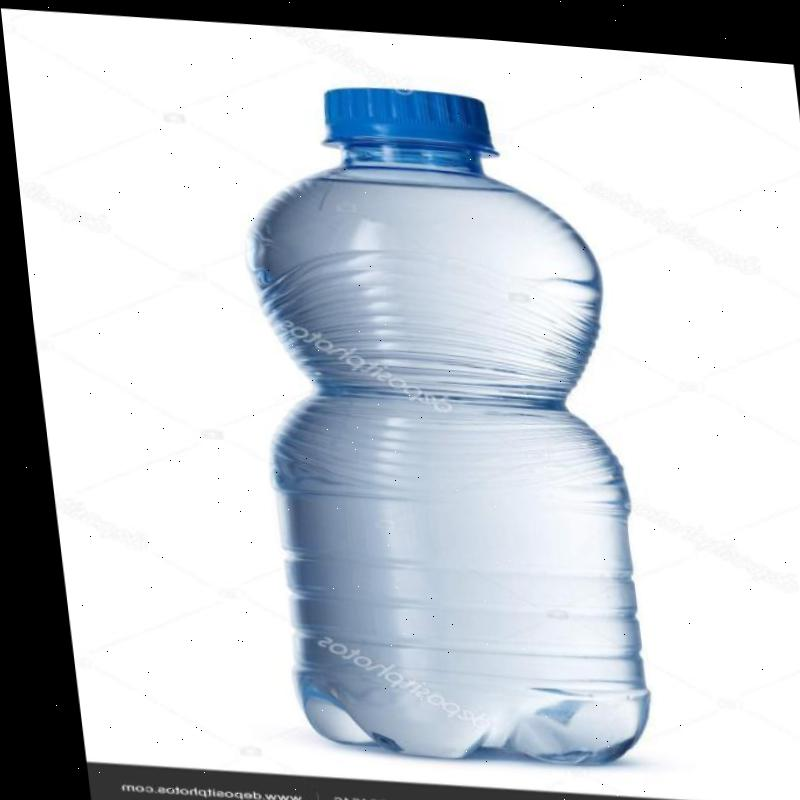botella: (217, 63, 655, 767)
